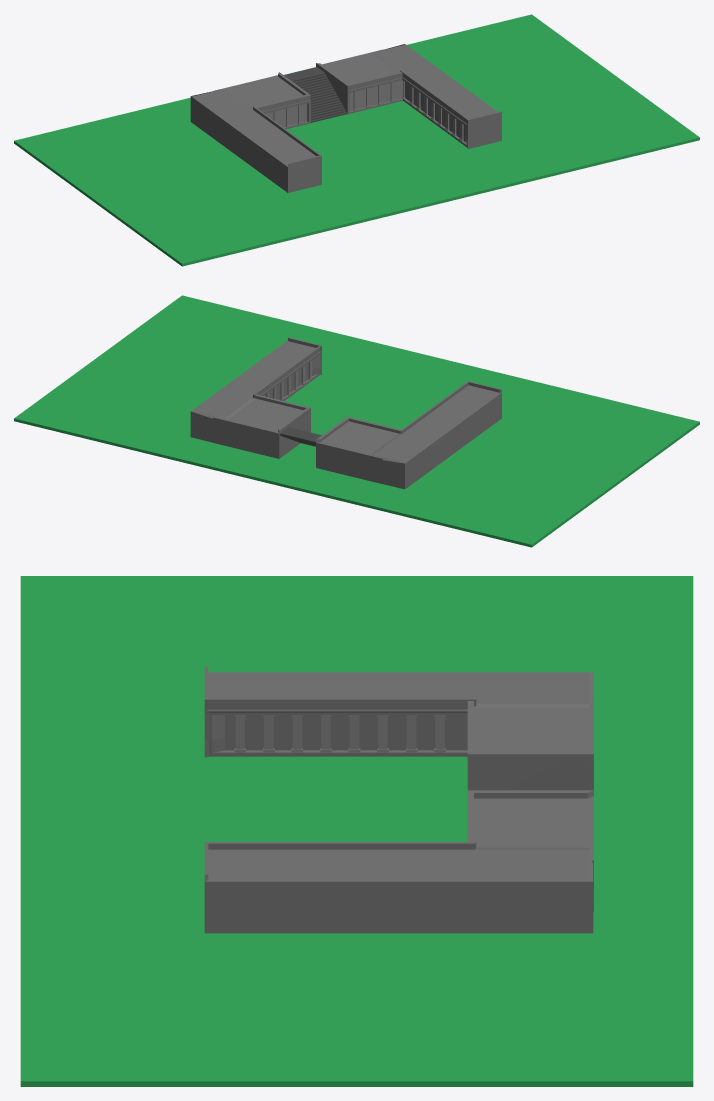
File: jungle general 0.1.fbx
3 views of the same model, one above another, from view 1: azimuth 30°, elevation 25°; view 2: azimuth 150°, elevation 25°; view 3: azimuth 270°, elevation 25° (orthographic). The views are drawn at different scales.
Visible parts, largest first — view 1: Plane, Cube.008, Cube.004, Cube.002, Cube.009, Cube.001, Cube.007, Cube.006; view 2: Plane, Cube.008, Cube.004, Cube.002, Cube.009, Cube.007, Cube.001; view 3: Plane, Cube.004, Cube.008, Cube.009, Cube.002, Cube.003, Cube.001.
Part boxes in pixels (x1=…): Plane: x1=14, y1=14, x2=699, y2=266; Cube.008: x1=190, y1=88, x2=321, y2=192; Cube.004: x1=370, y1=44, x2=501, y2=148; Cube.002: x1=316, y1=49, x2=402, y2=114; Cube.009: x1=213, y1=72, x2=310, y2=129; Cube.001: x1=284, y1=67, x2=347, y2=122; Cube.007: x1=409, y1=85, x2=466, y2=144; Cube.006: x1=353, y1=80, x2=405, y2=110; Plane: x1=14, y1=295, x2=699, y2=547; Cube.008: x1=370, y1=381, x2=501, y2=489; Cube.004: x1=190, y1=337, x2=321, y2=442; Cube.002: x1=213, y1=394, x2=310, y2=458; Cube.009: x1=316, y1=417, x2=400, y2=483; Cube.007: x1=266, y1=360, x2=318, y2=400; Cube.001: x1=280, y1=427, x2=321, y2=446; Plane: x1=20, y1=576, x2=693, y2=1086; Cube.004: x1=204, y1=842, x2=593, y2=933; Cube.008: x1=204, y1=666, x2=593, y2=757; Cube.009: x1=467, y1=695, x2=593, y2=790; Cube.002: x1=467, y1=790, x2=593, y2=911; Cube.003: x1=214, y1=715, x2=445, y2=752; Cube.001: x1=505, y1=761, x2=590, y2=790.
Bounding box in the file's own units: 17600 × 1113 × 9900.
